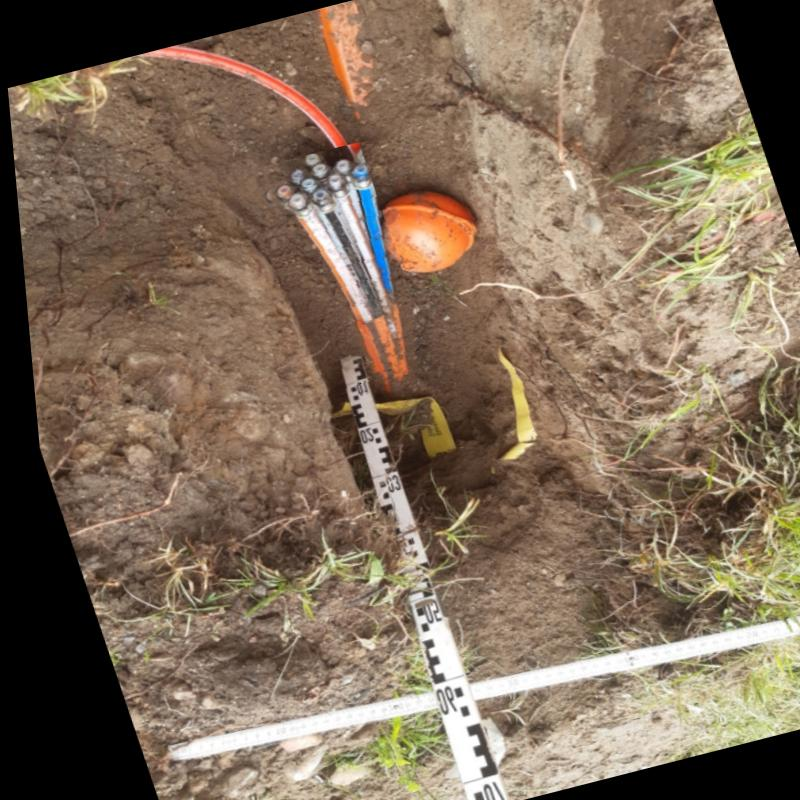Kugelmarker: (372, 191, 470, 272)
Orang-Speednetrohrchen: (264, 149, 397, 387), (320, 0, 380, 104)
